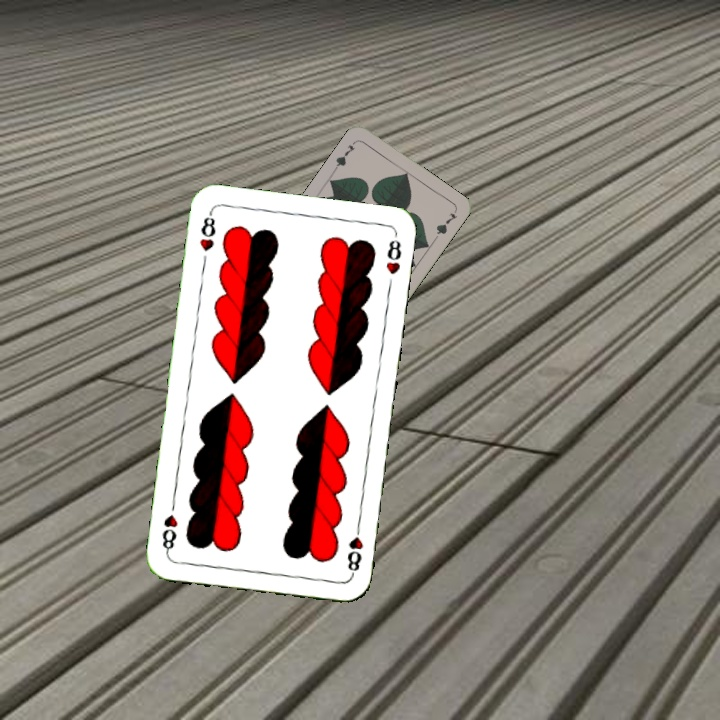G7: (330, 137, 359, 172)
H8: (343, 519, 365, 578), (196, 208, 219, 254)
